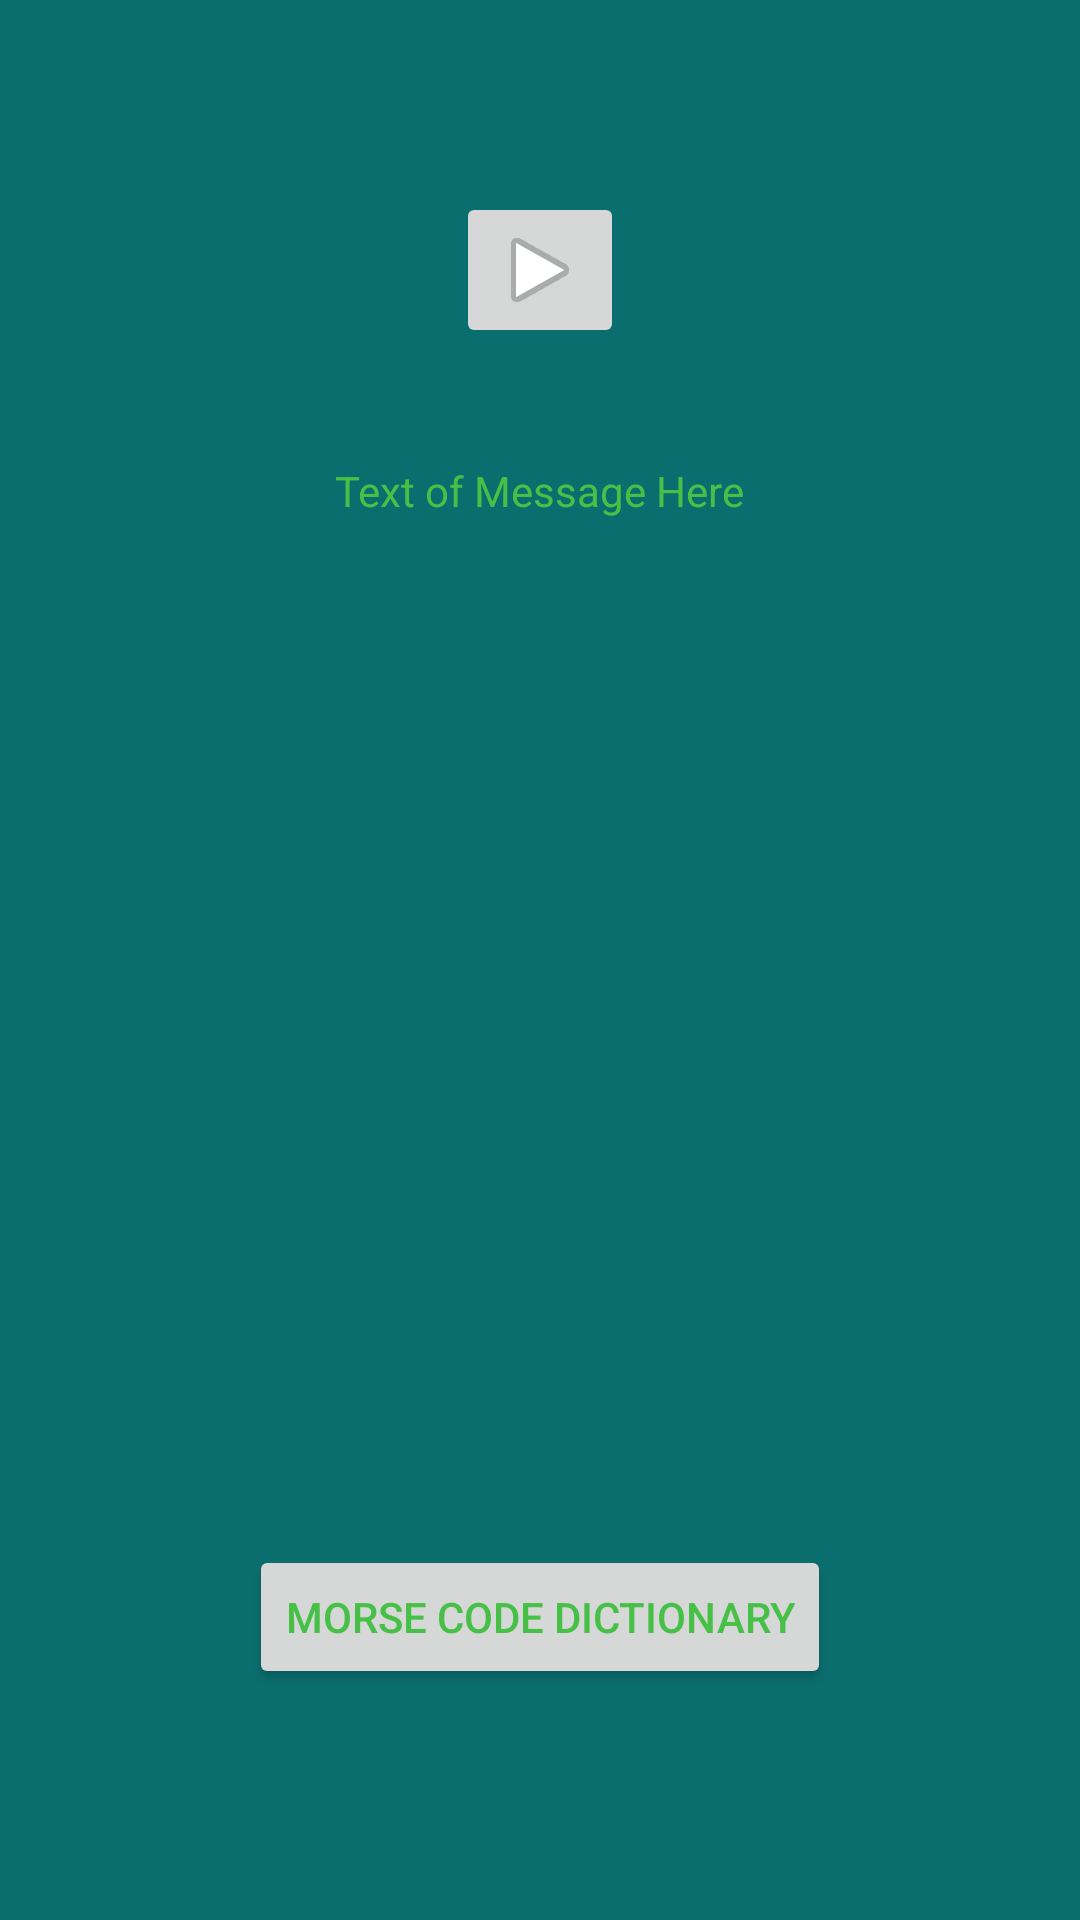

Icon bounding boxes for this 1080×1920 phone screenshot, format {"x1": x1, "y1": y1, "x2": x2, "y2": y2}:
play: {"x1": 468, "y1": 210, "x2": 612, "y2": 330}
